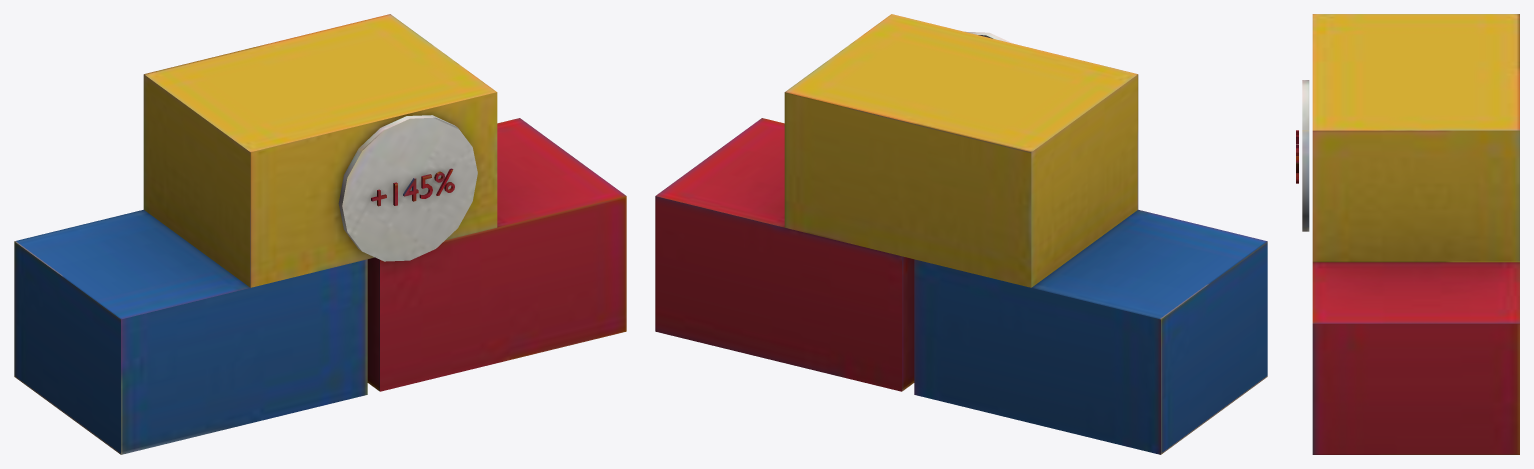
The model's file is caja_precio.glb.
3 views of the same model, side by side, from view 1: azimuth 30°, elevation 25°; view 2: azimuth 150°, elevation 25°; view 3: azimuth 270°, elevation 25° (orthographic). The views are drawn at different scales.
Visible parts, largest first — view 1: caja_precio; view 2: caja_precio; view 3: caja_precio.
Boxes of the visible parts, x1,y1,x2,y2 form: caja_precio: (14, 14, 626, 454); caja_precio: (655, 14, 1267, 454); caja_precio: (1296, 14, 1519, 454).
Size of the model in its own units: 1.64 by 0.84 by 0.648.
Materials: 1 (1 with a texture image).
